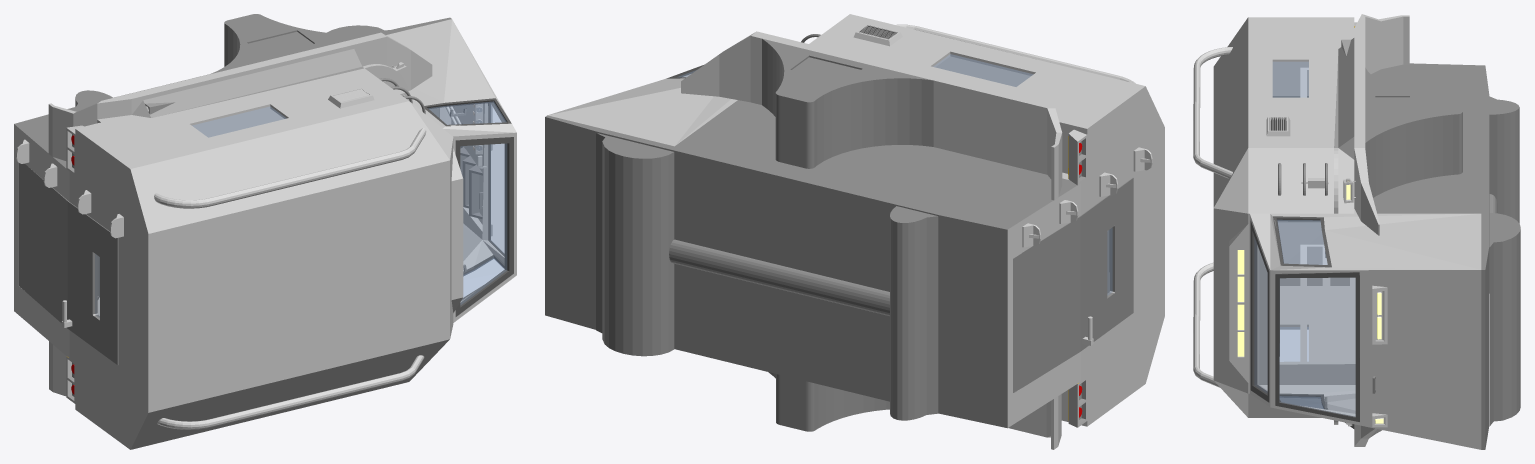
3 views of the same model, side by side, from view 1: azimuth 30°, elevation 25°; view 2: azimuth 150°, elevation 25°; view 3: azimuth 270°, elevation 25° (orthographic). The views are drawn at different scales.
Parts seen in each view (by area): view 1: sherpBody; view 2: sherpBody; view 3: sherpBody.
Part boxes in pixels (<box>): sherpBody: <box>14,14,516,449</box>; sherpBody: <box>545,14,1164,449</box>; sherpBody: <box>1193,14,1520,449</box>.
Size of the model in its own units: 487 by 318 by 315.
